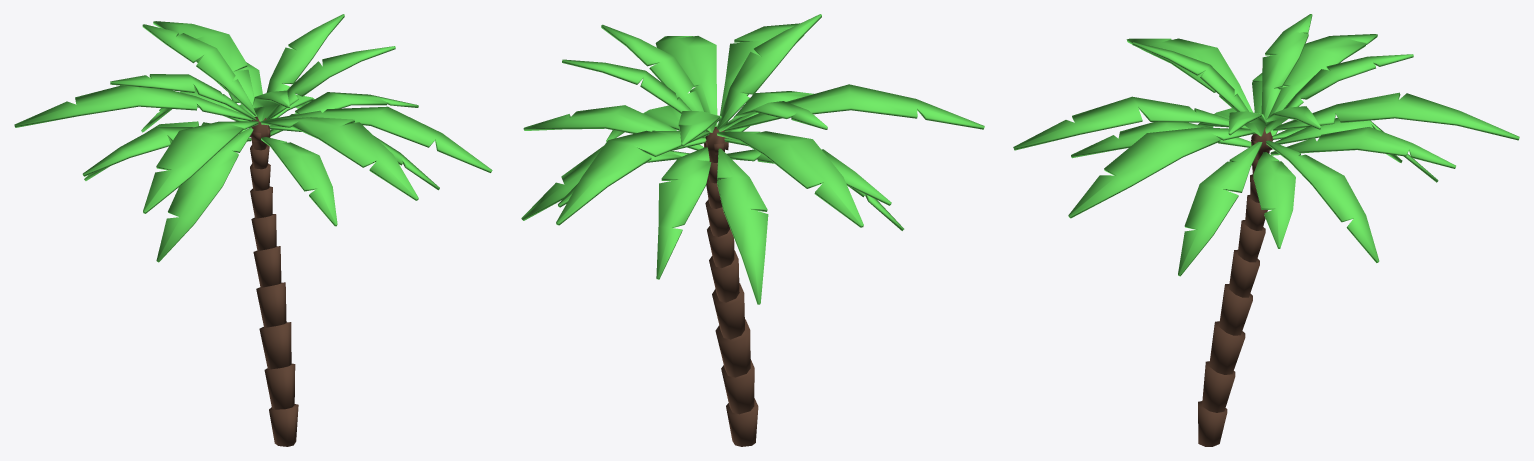
File: PalmTree_Medium2.fbx
The picture shows the model from 3 angles, left to right: view 1: azimuth 30°, elevation 25°; view 2: azimuth 150°, elevation 25°; view 3: azimuth 270°, elevation 25°; orthographic projection. The views are drawn at different scales.
Parts seen in each view (by area): view 1: PalmTree_Medium2.001, PalmTree_Medium2; view 2: PalmTree_Medium2.001, PalmTree_Medium2; view 3: PalmTree_Medium2.001, PalmTree_Medium2.
Boxes of the visible parts, x1,y1,x2,y2 form: PalmTree_Medium2.001: [14, 14, 492, 262]; PalmTree_Medium2: [250, 116, 298, 446]; PalmTree_Medium2.001: [521, 14, 984, 304]; PalmTree_Medium2: [704, 126, 758, 446]; PalmTree_Medium2.001: [1013, 14, 1519, 276]; PalmTree_Medium2: [1198, 127, 1272, 446].
Bounding box in the file's own units: 1104 × 1099 × 1316.
